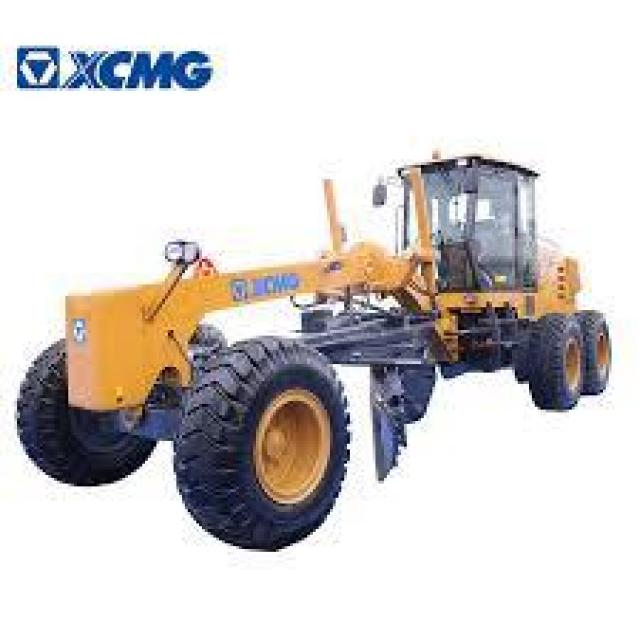Grader: (23, 122, 626, 552)
